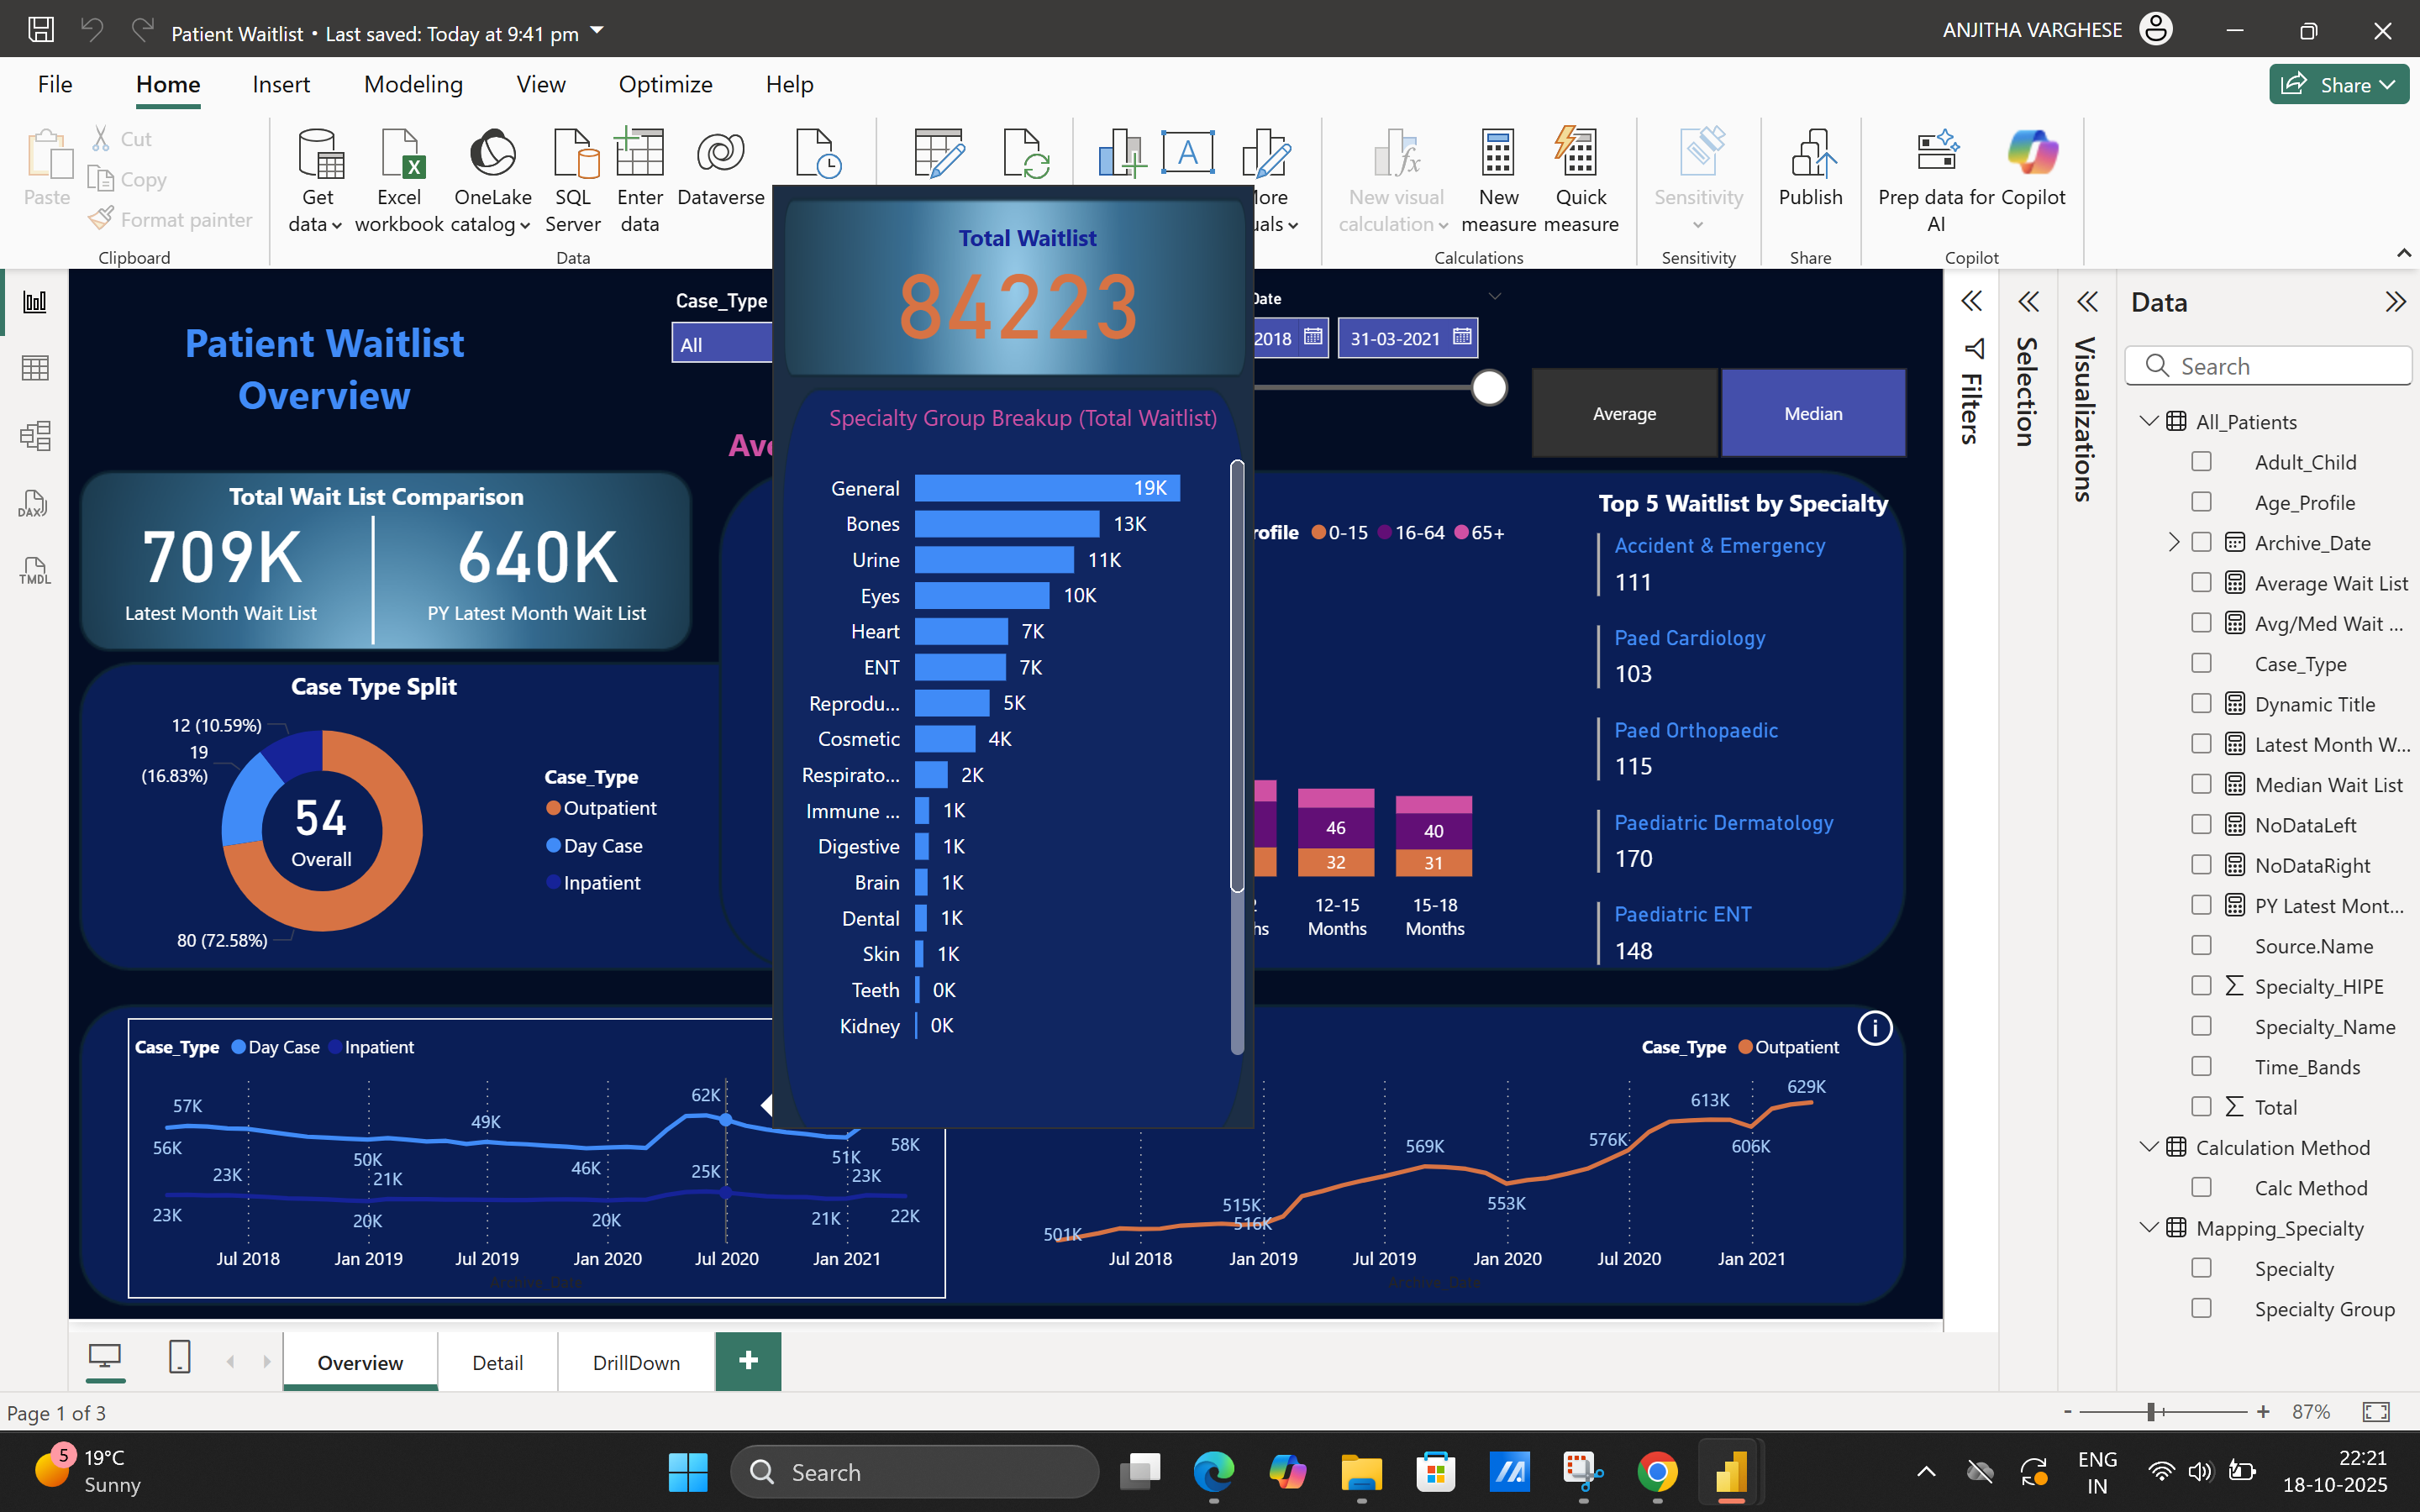

This screenshot's page, from the dashboard's own definition file:
{"tool":"powerbi","page":{"name":"Overview","canvas":[1280,720],"ordinal":0},"visuals":[{"type":"card","fields":{"Values":["All_Patients.Latest Month Wait List"]},"box":[0,144.1,207.8,112.2],"z":0},{"type":"card","fields":{"Values":["All_Patients.PY Latest Month Wait List"]},"box":[215.5,144.1,207.8,112.2],"z":1000},{"type":"slicer","fields":{"Values":["Calculation Method.Calc Method"]},"box":[974,61.2,306,75.2],"z":2000},{"type":"donutChart","fields":{"Category":["All_Patients.Case_Type"],"Y":["All_Patients.Avg/Med Wait List"]},"box":[16,288,400,192],"z":3000},{"type":"columnChart","fields":{"Y":["All_Patients.Avg/Med Wait List"],"Category":["All_Patients.Time_Bands"],"Series":["All_Patients.Age_Profile"]},"box":[464,160,528,320],"z":4000},{"type":"multiRowCard","fields":{"Values":["All_Patients.Specialty_Name","All_Patients.Avg/Med Wait List"]},"box":[1039,175.9,224.4,336.6],"z":5000},{"type":"multiRowCard","fields":{"Values":["All_Patients.NoDataLeft"]},"box":[160.6,596.7,289.4,96.9],"z":6000},{"type":"lineChart","fields":{"Category":["All_Patients.Archive_Date"],"Y":["Sum(All_Patients.Total)"],"Series":["All_Patients.Case_Type"]},"box":[39.6,512.5,560.1,191.5],"z":7000},{"type":"multiRowCard","fields":{"Values":["All_Patients.NoDataRight"]},"box":[818.5,596.7,289.4,96.9],"z":8000},{"type":"lineChart","fields":{"Category":["All_Patients.Archive_Date"],"Y":["Sum(All_Patients.Total)"],"Series":["All_Patients.Case_Type"]},"box":[648.6,512.5,570.7,191.5],"z":9000},{"type":"slicer","fields":{"Values":["All_Patients.Archive_Date"]},"box":[752.2,8.9,239.7,86.7],"z":10000},{"type":"slicer","fields":{"Values":["All_Patients.Case_Type"]},"box":[401.6,8.9,127.5,63.7],"z":11000},{"type":"slicer","fields":{"Values":["All_Patients.Specialty_Name"]},"box":[568.6,8.9,159.4,63.7],"z":12000},{"type":"textbox","box":[29.1,26.4,291.9,84.5],"z":13000},{"type":"multiRowCard","fields":{"Values":["All_Patients.Avg/Med Wait List"]},"box":[146.6,350.6,79,66.3],"z":14000},{"type":"shape","box":[57.4,168.3,300.9,88],"z":15000},{"type":"textbox","box":[1039.6,144,224.6,37],"z":16000},{"type":"textbox","box":[550.8,144,285.3,37],"z":17000},{"type":"textbox","box":[104.5,139,297.1,37],"z":18000},{"type":"textbox","box":[568.6,502.3,265.2,45.9],"z":19000},{"type":"textbox","box":[146.6,269,146.6,38.2],"z":20000},{"type":"multiRowCard","fields":{"Values":["All_Patients.Dynamic Title"]},"box":[444.9,99.4,391.4,49.7],"z":21000},{"type":"actionButton","box":[1216.6,502,64.7,34.3],"z":22000}]}

Visuals, with their boxes on the page's 1280x720 design canvas (x1, y1, x2, y2). These are canvas units, not pixel positions in the 2420x1512 screenshot, which may show the page scaled, cropped or inside an application window:
card - All_Patients.Latest Month Wait List: {"left": 0, "top": 144, "right": 208, "bottom": 256}
card - All_Patients.PY Latest Month Wait List: {"left": 216, "top": 144, "right": 423, "bottom": 256}
slicer - Calculation Method.Calc Method: {"left": 974, "top": 61, "right": 1280, "bottom": 136}
donutChart - All_Patients.Case_Type x All_Patients.Avg/Med Wait List: {"left": 16, "top": 288, "right": 416, "bottom": 480}
columnChart - All_Patients.Avg/Med Wait List x All_Patients.Time_Bands: {"left": 464, "top": 160, "right": 992, "bottom": 480}
multiRowCard - All_Patients.Specialty_Name x All_Patients.Avg/Med Wait List: {"left": 1039, "top": 176, "right": 1263, "bottom": 512}
multiRowCard - All_Patients.NoDataLeft: {"left": 161, "top": 597, "right": 450, "bottom": 694}
lineChart - All_Patients.Archive_Date x Sum(All_Patients.Total): {"left": 40, "top": 512, "right": 600, "bottom": 704}
multiRowCard - All_Patients.NoDataRight: {"left": 818, "top": 597, "right": 1108, "bottom": 694}
lineChart - All_Patients.Archive_Date x Sum(All_Patients.Total): {"left": 649, "top": 512, "right": 1219, "bottom": 704}
slicer - All_Patients.Archive_Date: {"left": 752, "top": 9, "right": 992, "bottom": 96}
slicer - All_Patients.Case_Type: {"left": 402, "top": 9, "right": 529, "bottom": 73}
slicer - All_Patients.Specialty_Name: {"left": 569, "top": 9, "right": 728, "bottom": 73}
textbox: {"left": 29, "top": 26, "right": 321, "bottom": 111}
multiRowCard - All_Patients.Avg/Med Wait List: {"left": 147, "top": 351, "right": 226, "bottom": 417}
shape: {"left": 57, "top": 168, "right": 358, "bottom": 256}
textbox: {"left": 1040, "top": 144, "right": 1264, "bottom": 181}
textbox: {"left": 551, "top": 144, "right": 836, "bottom": 181}
textbox: {"left": 104, "top": 139, "right": 402, "bottom": 176}
textbox: {"left": 569, "top": 502, "right": 834, "bottom": 548}
textbox: {"left": 147, "top": 269, "right": 293, "bottom": 307}
multiRowCard - All_Patients.Dynamic Title: {"left": 445, "top": 99, "right": 836, "bottom": 149}
actionButton: {"left": 1217, "top": 502, "right": 1281, "bottom": 536}
